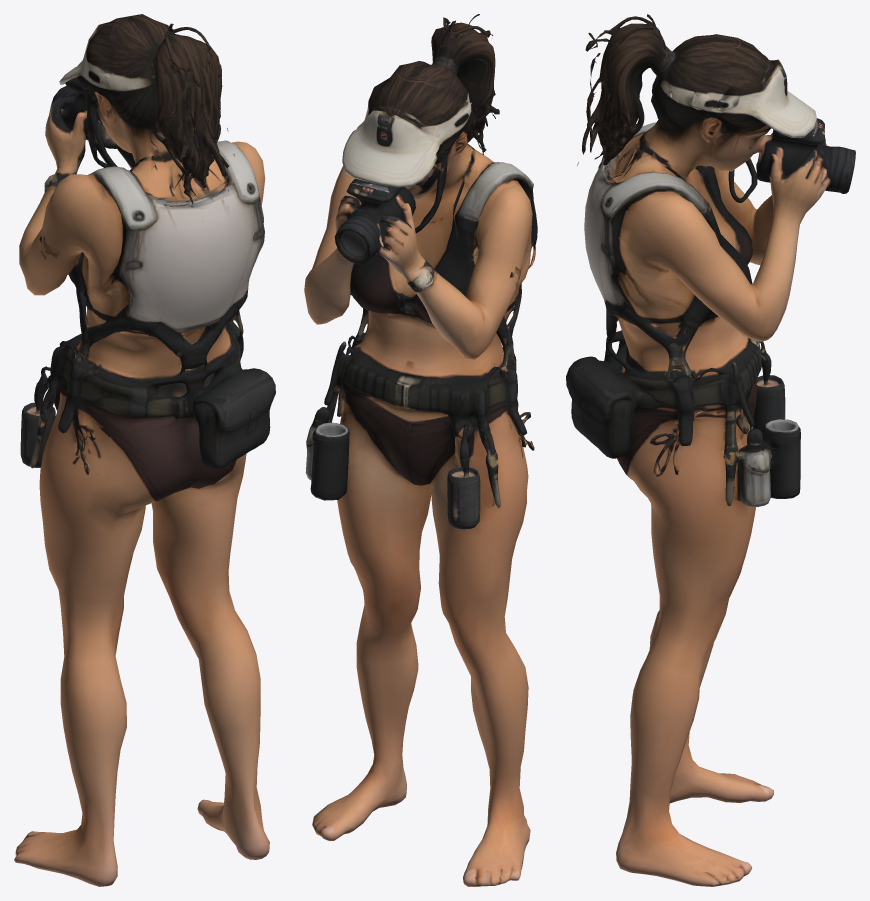
The model's file is female_photographer.glb.
3 renders of one model, left to right at view 1: azimuth 30°, elevation 25°; view 2: azimuth 150°, elevation 25°; view 3: azimuth 270°, elevation 25°, orthographic. The views are drawn at different scales.
Parts seen in each view (by area): view 1: tripo_node_d301bad8-5a4a-4842-a7e7-a1e65e1602be; view 2: tripo_node_d301bad8-5a4a-4842-a7e7-a1e65e1602be; view 3: tripo_node_d301bad8-5a4a-4842-a7e7-a1e65e1602be.
Part boxes in pixels (<box>): tripo_node_d301bad8-5a4a-4842-a7e7-a1e65e1602be: <box>14,14,275,886</box>; tripo_node_d301bad8-5a4a-4842-a7e7-a1e65e1602be: <box>304,14,537,886</box>; tripo_node_d301bad8-5a4a-4842-a7e7-a1e65e1602be: <box>566,14,855,886</box>.
Size of the model in its own units: 0.4613 by 1.65 by 0.5251.
1 material, 1 textured.
